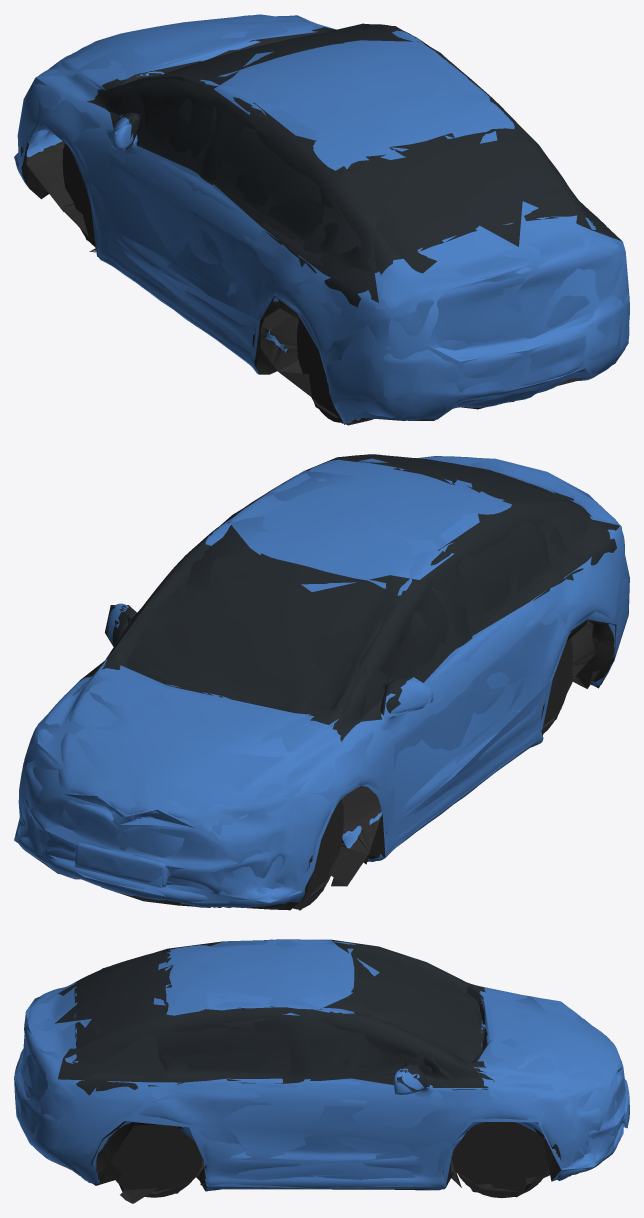
Rendered from tesla-model-x.glb.
The picture shows the model from 3 angles, top to bottom: view 1: azimuth 30°, elevation 25°; view 2: azimuth 150°, elevation 25°; view 3: azimuth 270°, elevation 25°; orthographic projection. The views are drawn at different scales.
Visible parts, largest first — view 1: body, far; view 2: body, far; view 3: body, far.
Part boxes in pixels (<box>): body: <box>15,15,629,425</box>; far: <box>14,14,629,424</box>; body: <box>16,454,628,910</box>; far: <box>14,454,629,910</box>; body: <box>14,939,629,1203</box>; far: <box>14,939,627,1197</box>.
Size of the model in its own units: 2.3 by 1.72 by 5.06.
